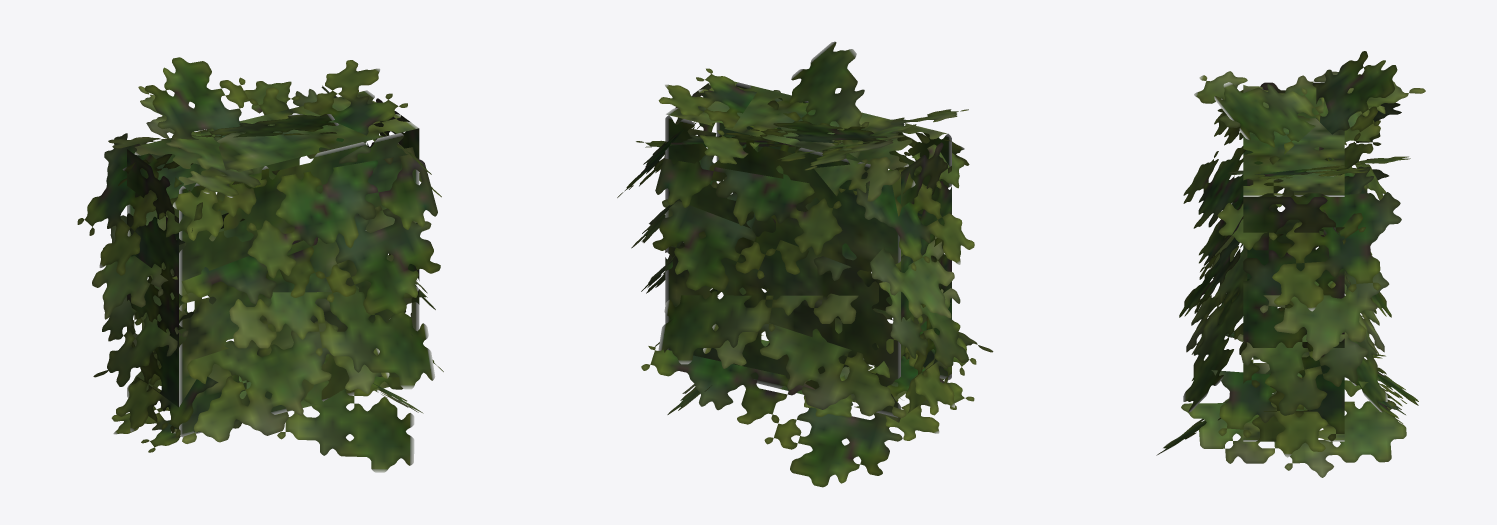
Rendered from vines_vertical_slab_2.obj.
3 views of the same model, side by side, from view 1: azimuth 30°, elevation 25°; view 2: azimuth 150°, elevation 25°; view 3: azimuth 270°, elevation 25° (orthographic). The views are drawn at different scales.
Visible parts, largest first — view 1: cube; view 2: cube; view 3: cube.
Part boxes in pixels (box(x1,y1,x2,y2)): cube: box(77, 57, 443, 472); cube: box(617, 41, 993, 487); cube: box(1156, 51, 1425, 477).
Bounding box in the file's own units: 1.68 × 1.55 × 1.45.
